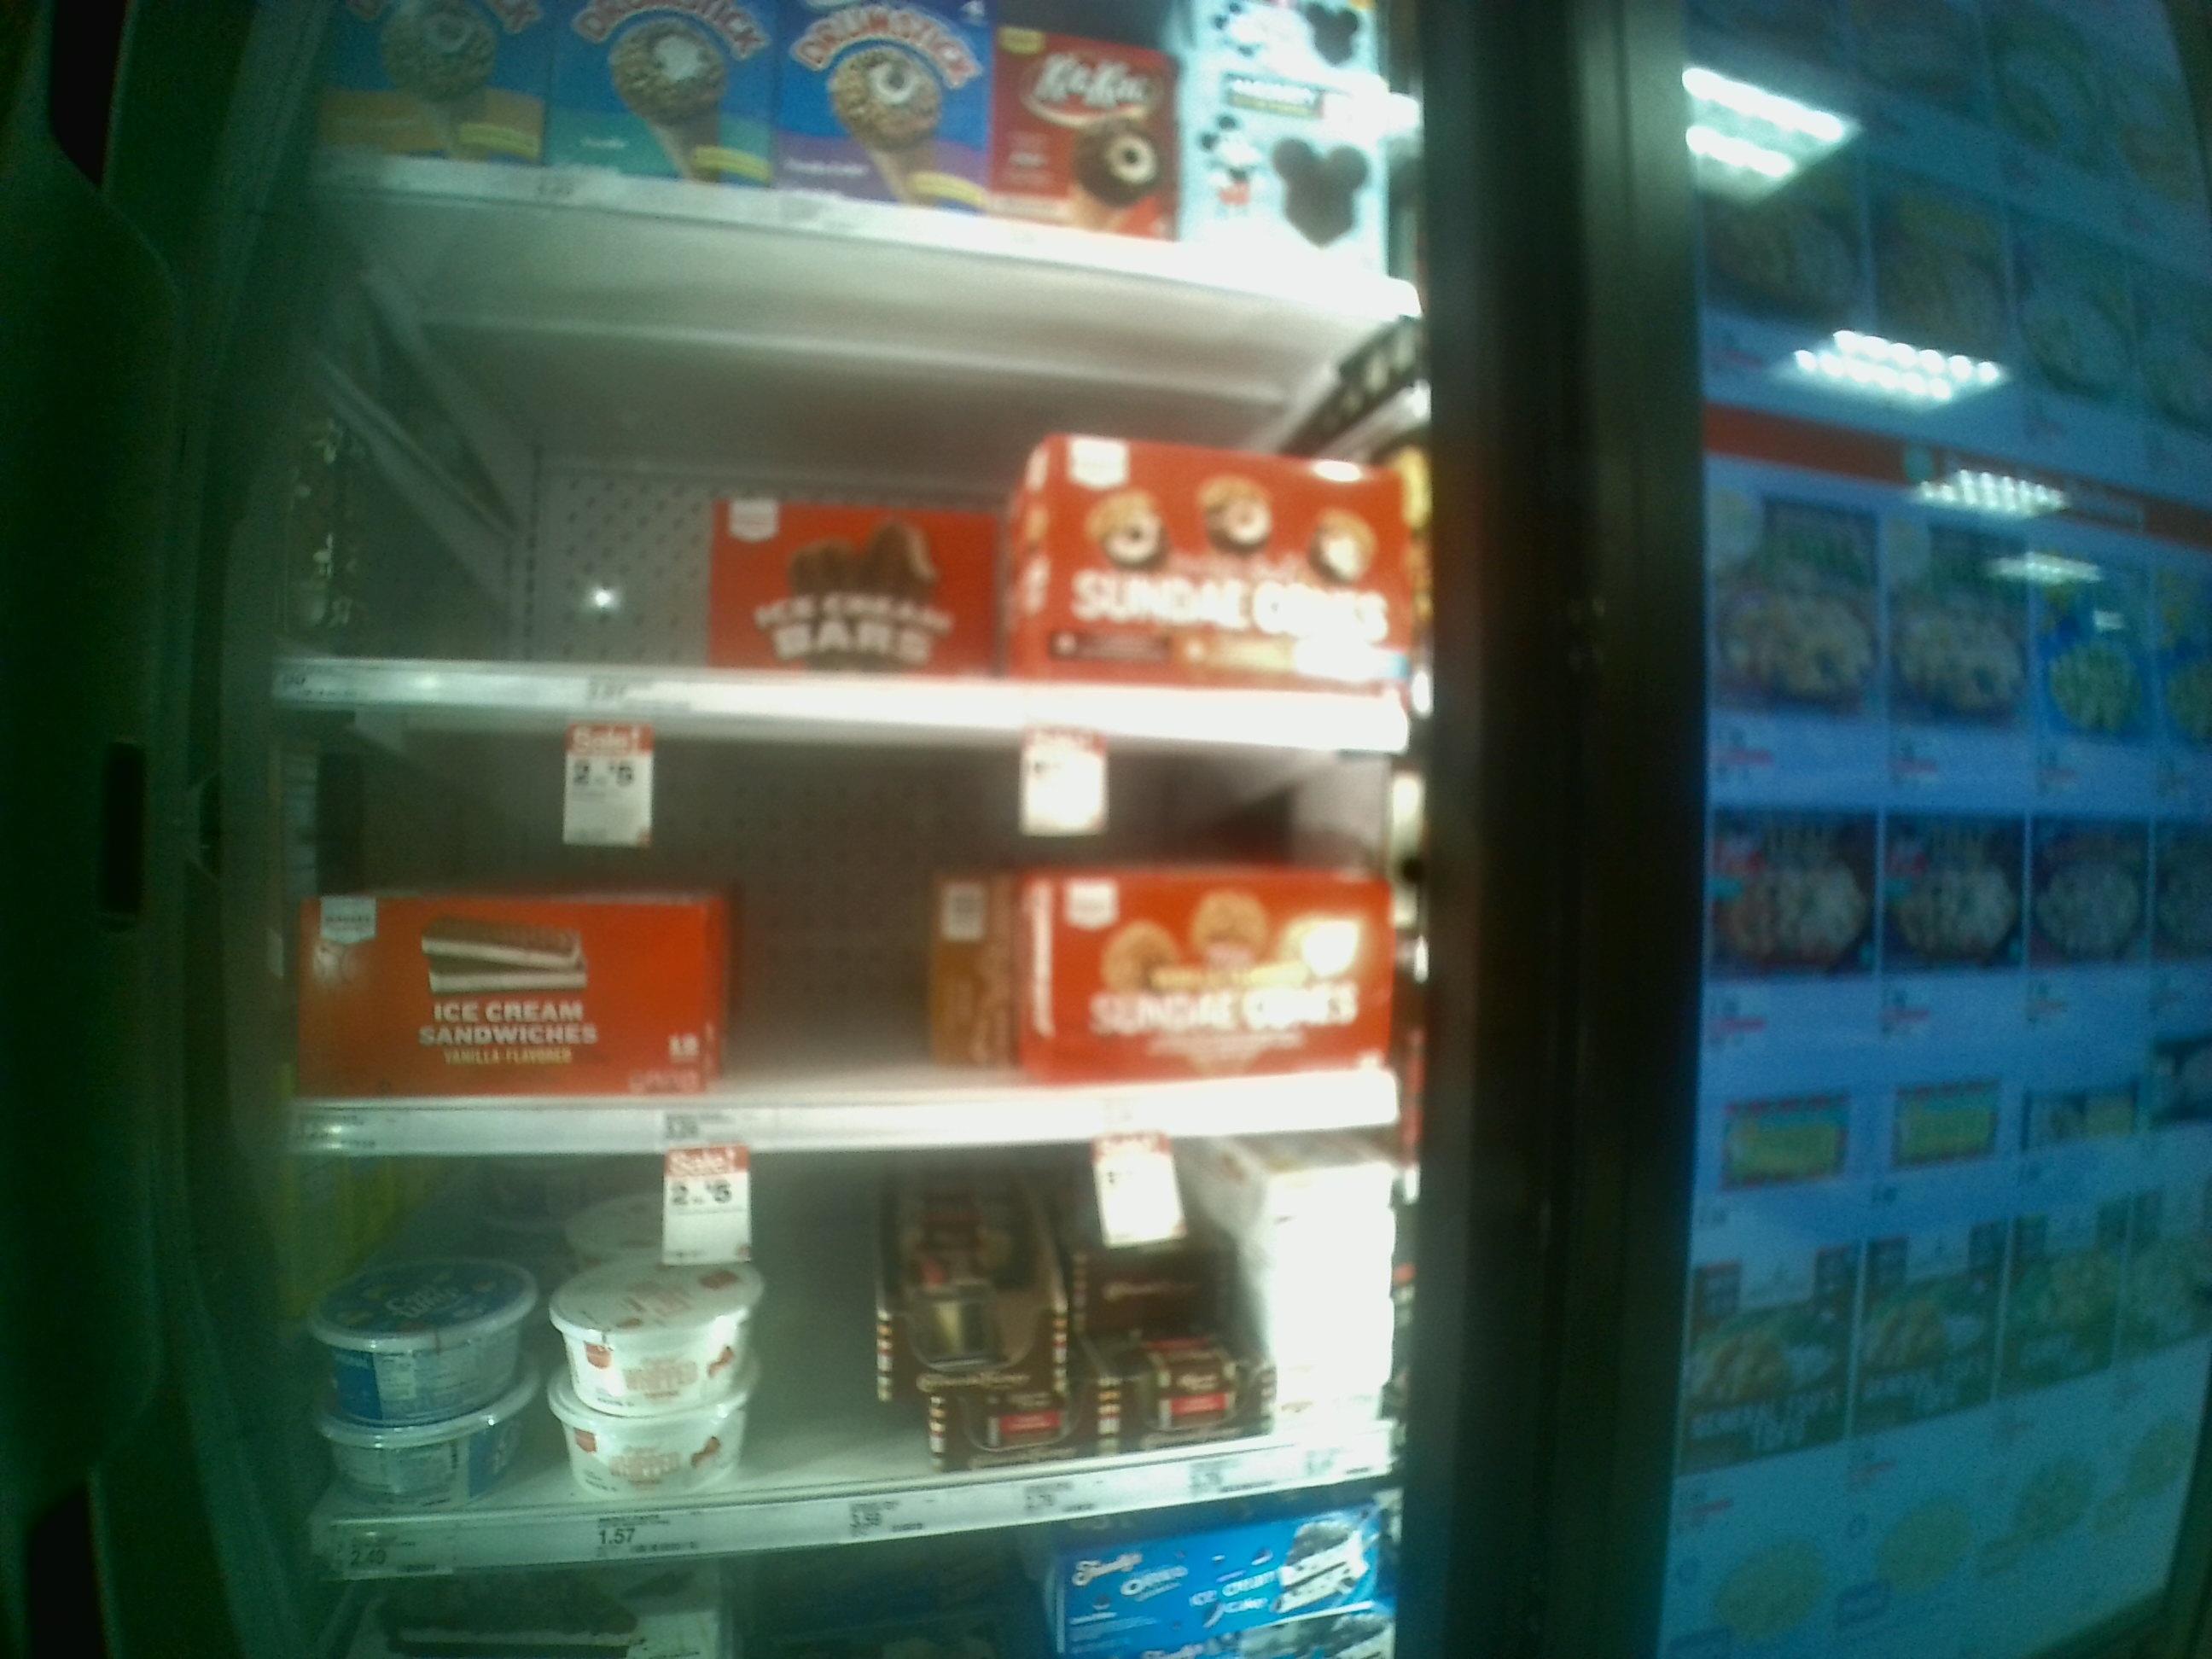shelf: (280, 207, 1420, 744), (249, 713, 1407, 1154), (249, 1148, 1404, 1577)
